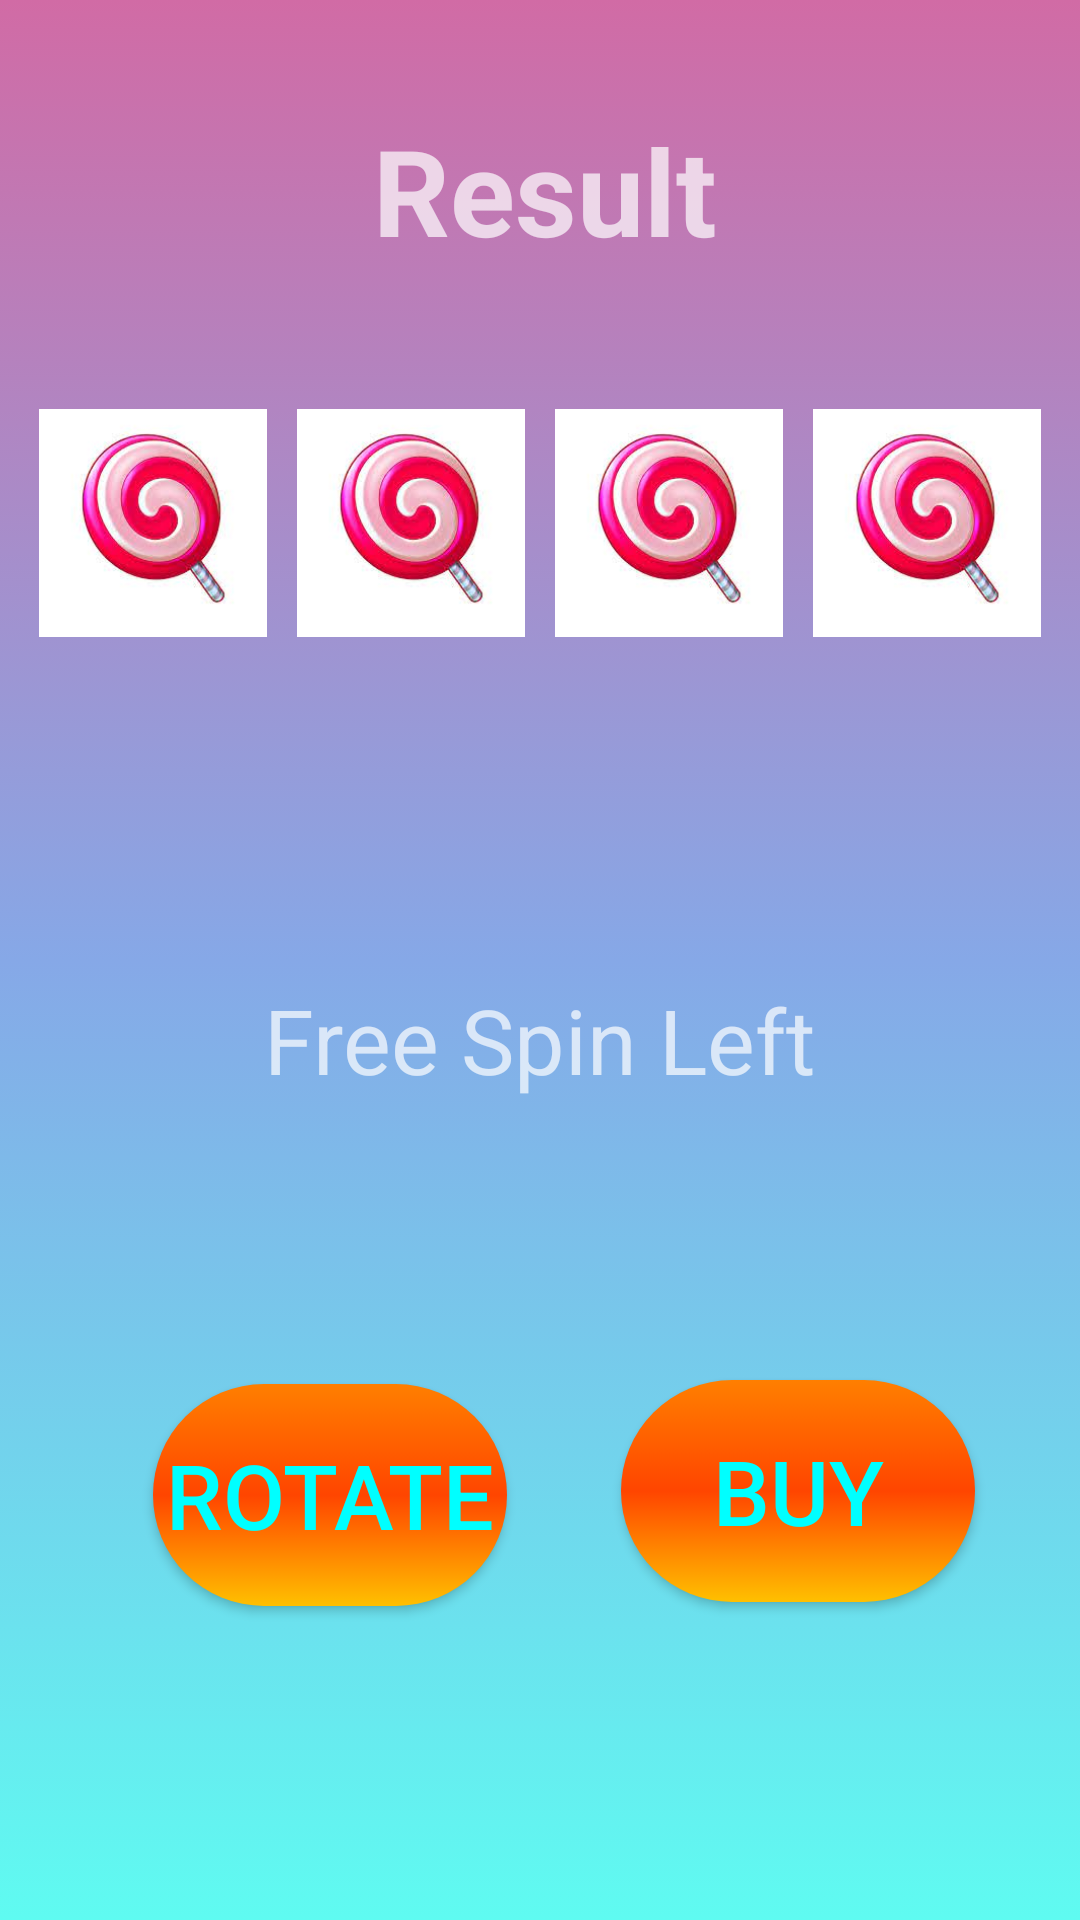

Point at icon controls on the screen. Image size 1080px×1920px, points as (x=x, y=y).
seker: (x=152, y=526), (x=410, y=526), (x=668, y=526), (x=926, y=526)
